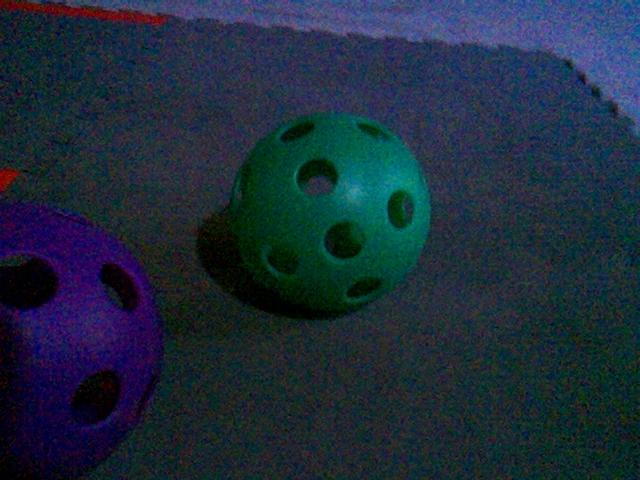Green: (212, 108, 434, 317)
Purple: (0, 193, 164, 477)
